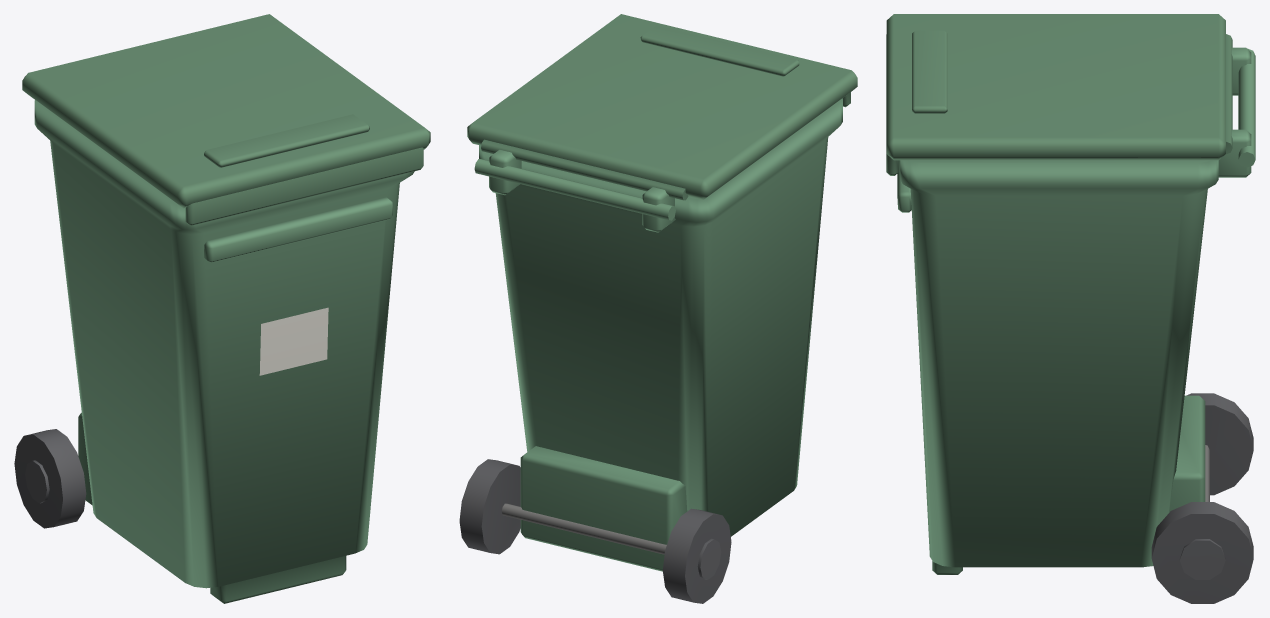
The model's file is wheelie_bin.glb.
The picture shows the model from 3 angles, left to right: view 1: azimuth 30°, elevation 25°; view 2: azimuth 150°, elevation 25°; view 3: azimuth 270°, elevation 25°; orthographic projection. The views are drawn at different scales.
Parts seen in each view (by area): view 1: street_wheelie_bin; view 2: street_wheelie_bin; view 3: street_wheelie_bin.
Boxes of the visible parts, x1,y1,x2,y2 form: street_wheelie_bin: (14,14,430,603); street_wheelie_bin: (459,14,857,603); street_wheelie_bin: (886,14,1255,603).
Bounding box in the file's own units: 0.6 × 1.03 × 0.7245.
